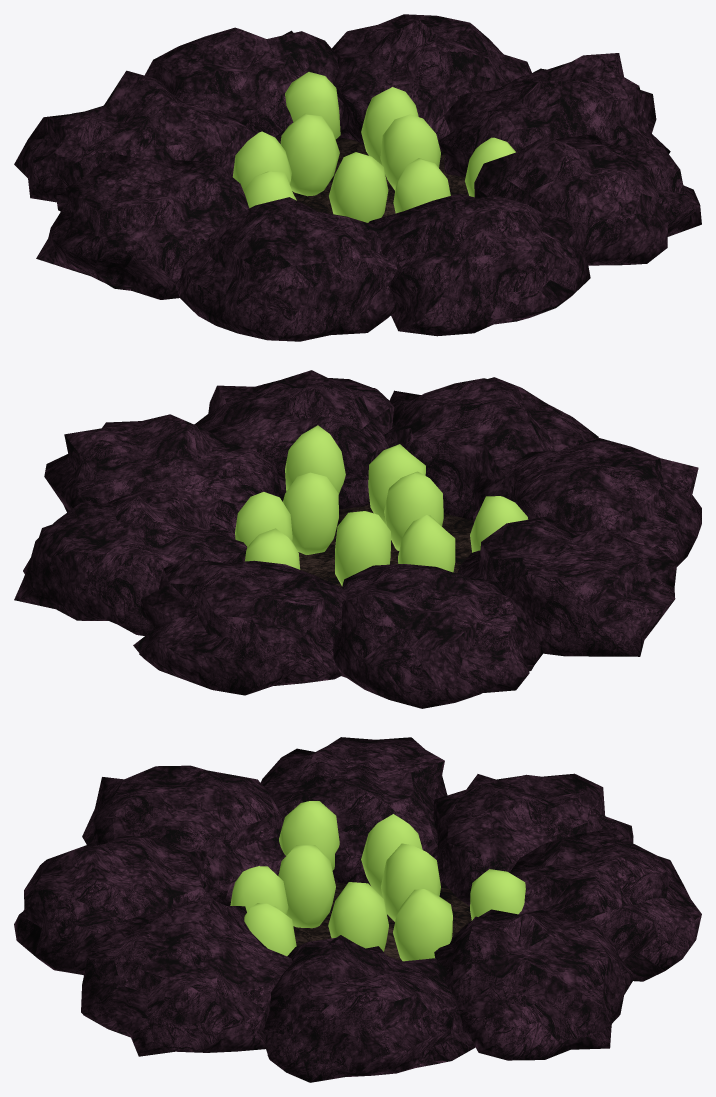
File: hatchery.glb
3 views of the same model, one above another, from view 1: azimuth 30°, elevation 25°; view 2: azimuth 150°, elevation 25°; view 3: azimuth 270°, elevation 25° (orthographic). The views are drawn at different scales.
Visible parts, largest first — view 1: rim5, rim6, rim4, rim7, rim3, rim0, rim1, rim2, egg3, egg6, egg0, egg2 (+6 smaller); view 2: rim3, rim2, rim4, rim1, rim0, rim5, rim6, rim7, egg0, egg3, egg6, egg8 (+6 smaller); view 3: rim7, rim0, rim1, rim2, rim6, rim5, rim4, rim3, egg6, egg1, egg0, egg3 (+6 smaller).
Part boxes in pixels (x1,y1,x2,y2): rim5: (176, 197, 397, 341); rim6: (368, 193, 590, 336); rim4: (36, 153, 249, 299); rim7: (474, 134, 701, 265); rim3: (14, 70, 257, 211); rim0: (438, 53, 670, 177); rim1: (332, 14, 531, 151); rim2: (144, 27, 343, 143); egg3: (280, 113, 339, 196); egg6: (329, 152, 388, 222); egg0: (380, 114, 440, 190); egg2: (285, 72, 340, 139); rim3: (333, 564, 543, 708); rim2: (133, 559, 346, 695); rim4: (457, 516, 676, 656); rim1: (14, 488, 247, 635); rim0: (44, 414, 281, 539); rim5: (472, 437, 701, 566); rim6: (384, 377, 598, 520); rim7: (194, 370, 394, 509); egg0: (283, 472, 338, 554); egg3: (335, 511, 390, 586); egg6: (384, 471, 443, 550); egg8: (285, 425, 345, 494); rim7: (81, 899, 292, 1056); rim0: (264, 935, 475, 1082); rim1: (434, 909, 634, 1060); rim2: (509, 828, 701, 981); rim6: (14, 835, 214, 975); rim5: (82, 765, 285, 905); rim4: (260, 737, 447, 884); rim3: (433, 773, 633, 905); egg6: (278, 845, 335, 928); egg1: (393, 889, 452, 961); egg0: (328, 882, 388, 951); egg3: (381, 843, 440, 921).
Size of the model in its own units: 212 by 34.25 by 203.
Materials: 3 (2 with a texture image).
